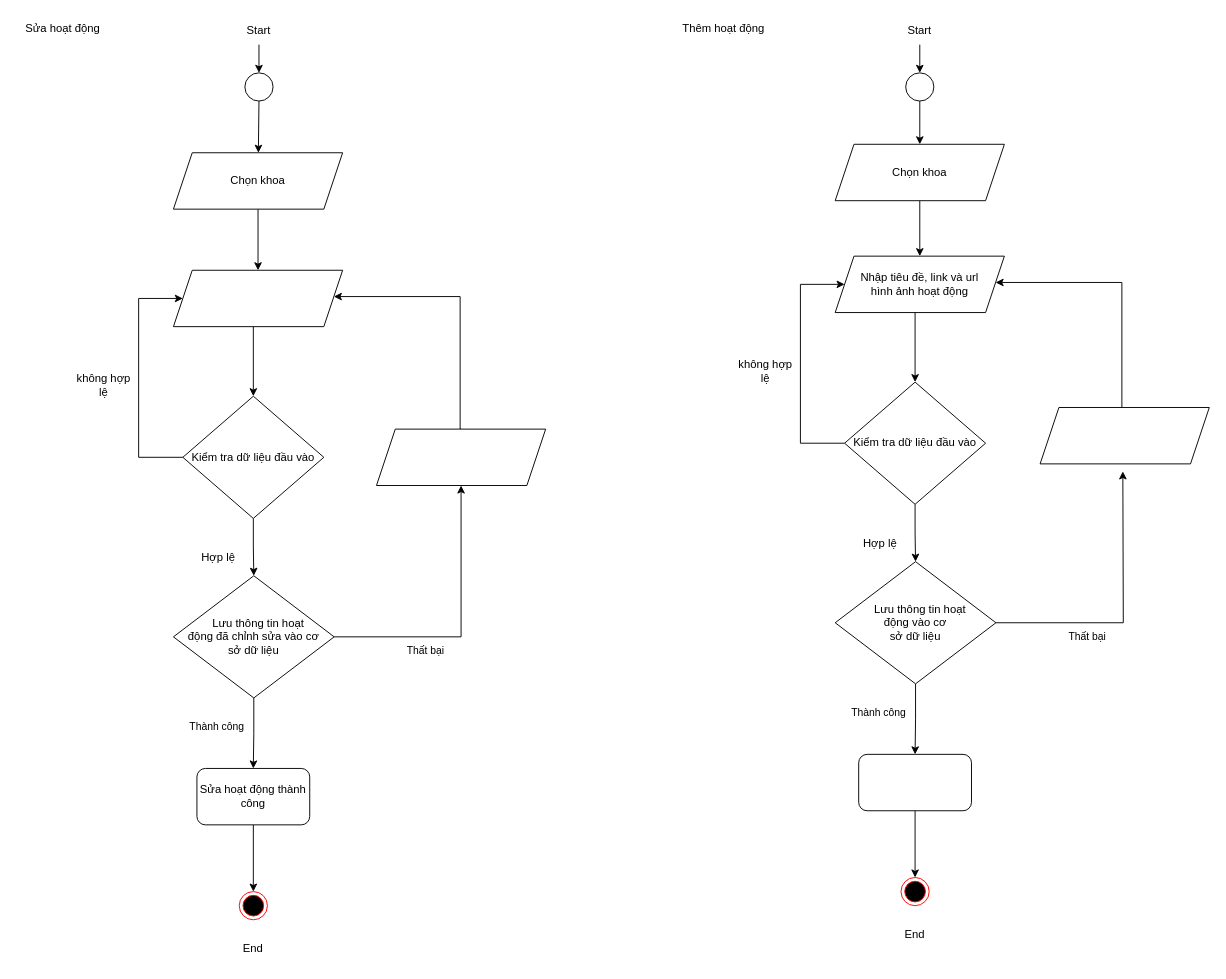
Some shapes in this 1226 by 979 pixel diagram are drawn without their labels. Each missing label, with the centre of its shape:
"Reload trang" goes at (914,782).
"Sửa, tiêu đề, link hoặc url hình ảnh hoạt động" goes at (257,298).
"Thông báo sửa hoạt động thất bại" goes at (461,457).
"Thông báo thêm hoạt động thất bại" goes at (1124,435).
